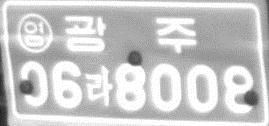0: (185, 62, 218, 114), (149, 62, 182, 113), (18, 59, 49, 107)
6: (50, 59, 82, 109)
8: (221, 64, 256, 115), (113, 61, 146, 113)
광주_D: (63, 14, 196, 54)
라: (84, 64, 113, 107)
영: (15, 12, 54, 54)
